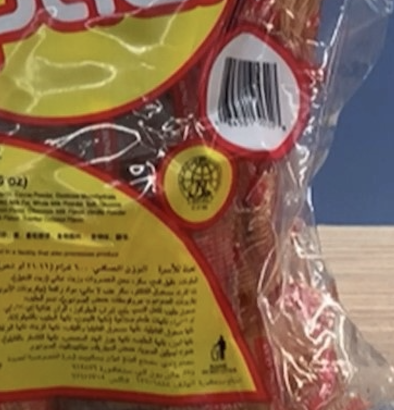halal: (175, 157, 220, 206)
